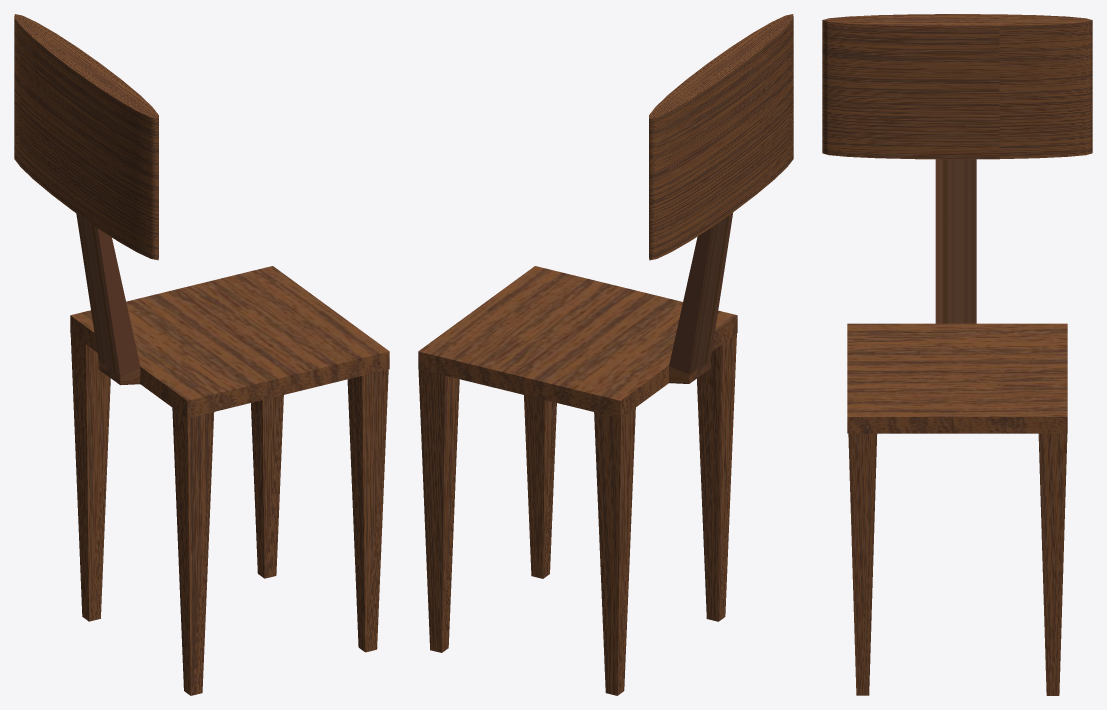
Rendered from chair.fbx.
The picture shows the model from 3 angles, left to right: view 1: azimuth 30°, elevation 25°; view 2: azimuth 150°, elevation 25°; view 3: azimuth 270°, elevation 25°; orthographic projection. The views are drawn at different scales.
Parts seen in each view (by area): view 1: pCylinder2; view 2: pCylinder2; view 3: pCylinder2.
Boxes of the visible parts, x1,y1,x2,y2 form: pCylinder2: (14, 14, 389, 695); pCylinder2: (418, 14, 793, 695); pCylinder2: (822, 14, 1092, 695).
Size of the model in its own units: 3.82 by 8.52 by 3.69.
1 material, 1 textured.
